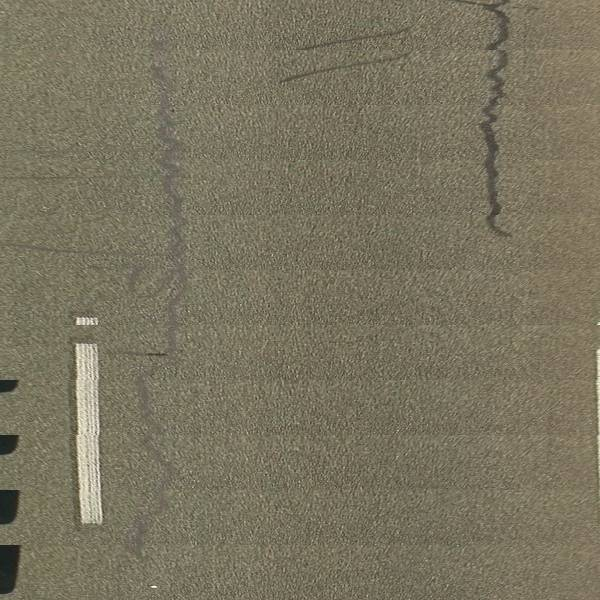road_damage: (150, 38, 190, 352), (474, 1, 518, 242), (122, 367, 173, 558), (275, 49, 416, 87)
